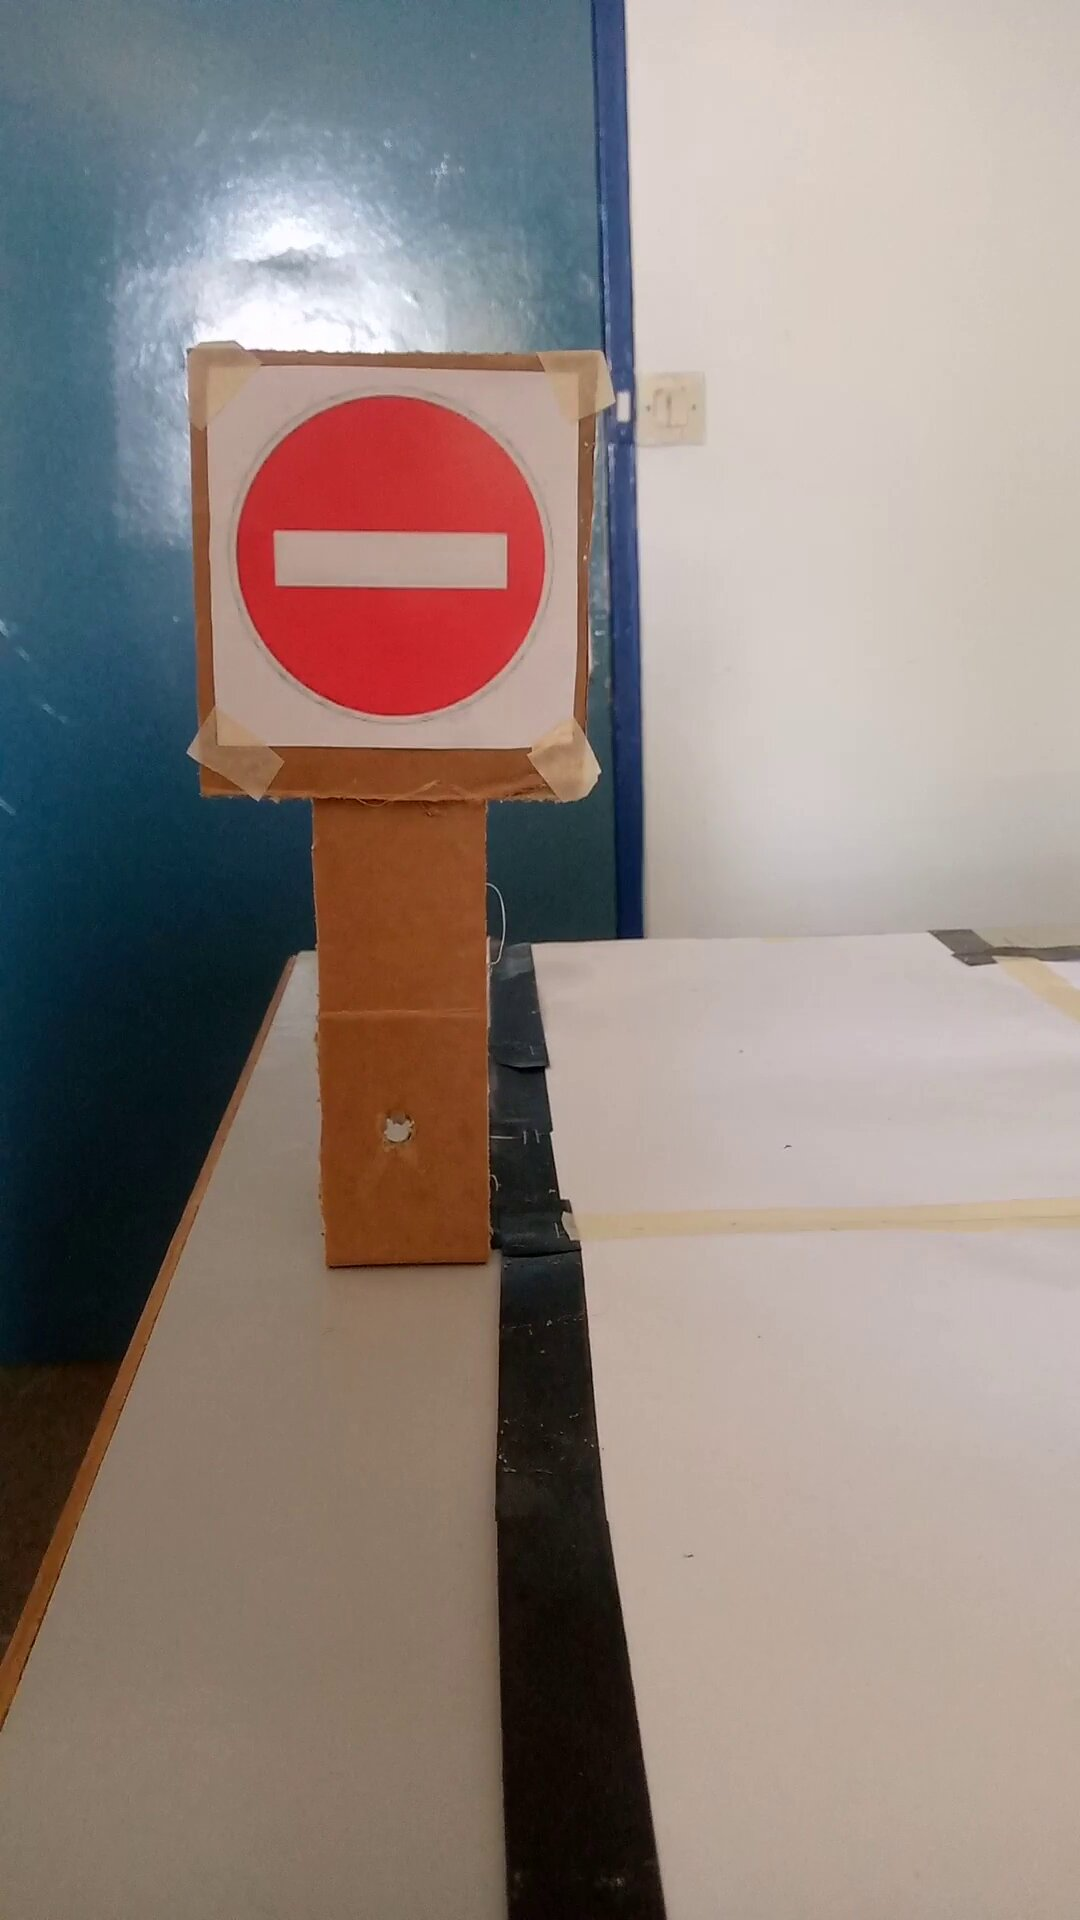panel010: (181, 343, 593, 756)
